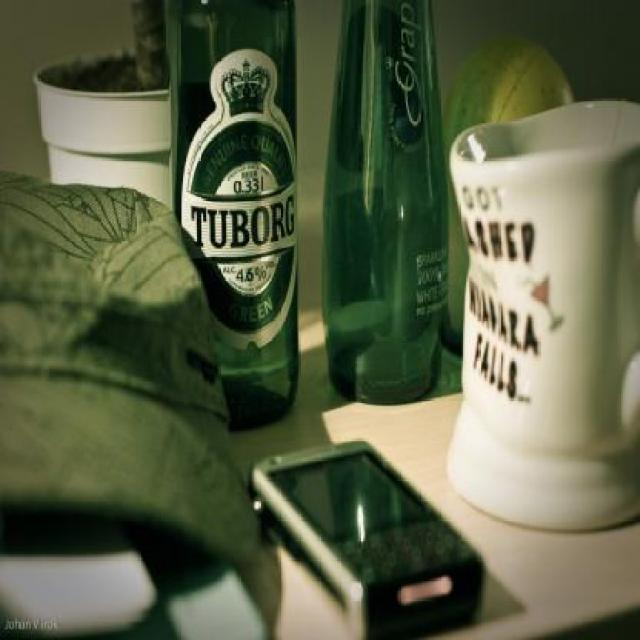phone: (236, 424, 507, 640)
